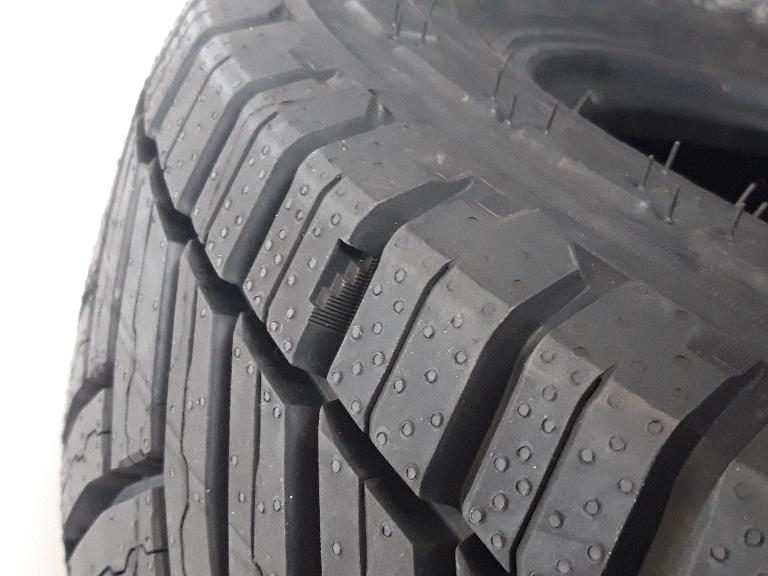temoin:100: (306, 235, 380, 336)
